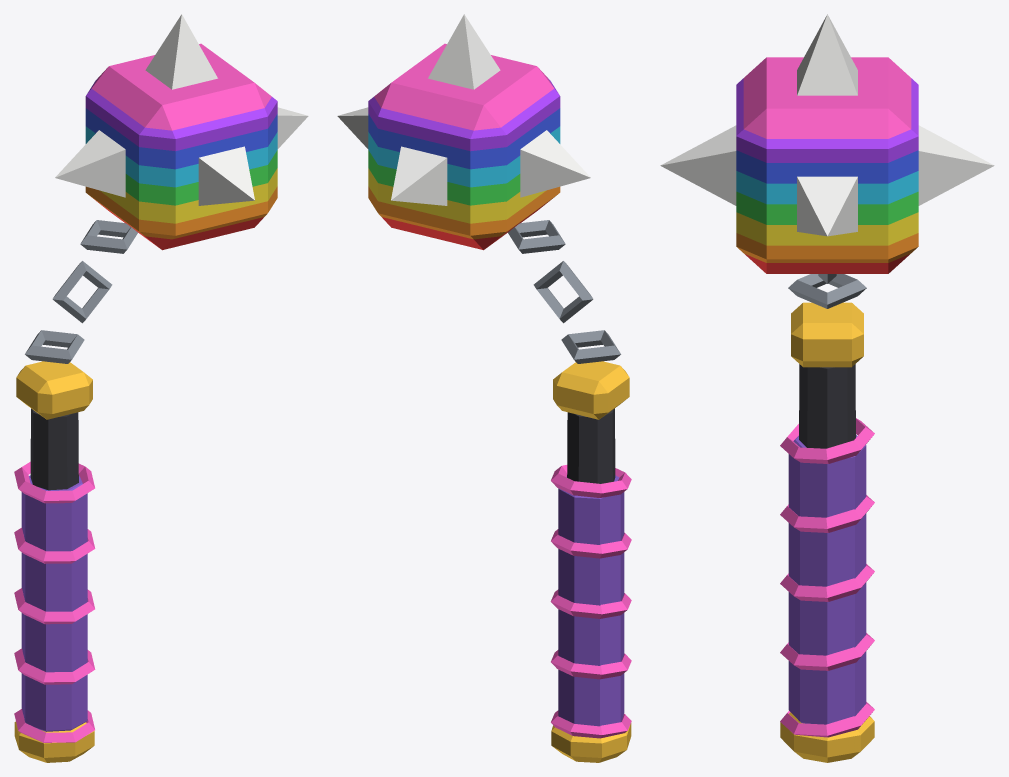
Rendered from RainbowFlail.fbx.
3 renders of one model, left to right at view 1: azimuth 30°, elevation 25°; view 2: azimuth 150°, elevation 25°; view 3: azimuth 270°, elevation 25°, orthographic. The views are drawn at different scales.
Parts seen in each view (by area): view 1: RainbowFlail; view 2: RainbowFlail; view 3: RainbowFlail.
Part boxes in pixels (bbox=[...]): RainbowFlail: bbox=[14, 14, 308, 762]; RainbowFlail: bbox=[337, 14, 631, 762]; RainbowFlail: bbox=[660, 14, 994, 762].
Size of the model in its own units: 1.26 by 2.92 by 1.1.
1 material, 1 textured.
